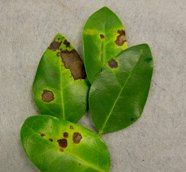unhealthy: (20, 115, 116, 170), (36, 38, 86, 117)
